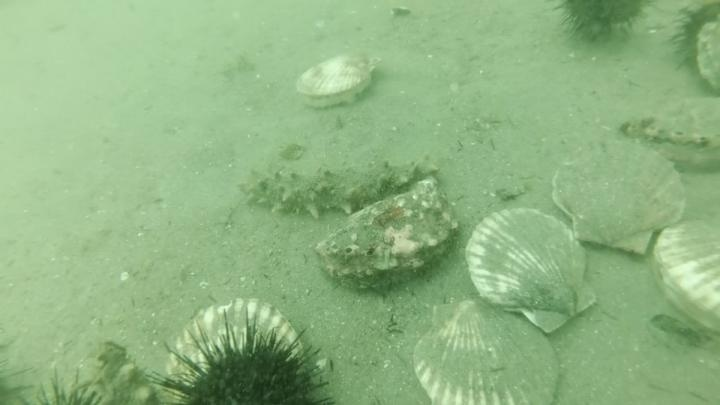echinus: (153, 315, 338, 405), (670, 2, 720, 99), (551, 1, 652, 47), (15, 363, 112, 405)
holothurian: (238, 147, 442, 222)
scallop: (461, 205, 599, 339), (548, 136, 691, 261), (405, 297, 566, 405), (162, 299, 305, 401), (647, 214, 720, 344), (293, 48, 380, 112), (692, 16, 720, 102)
